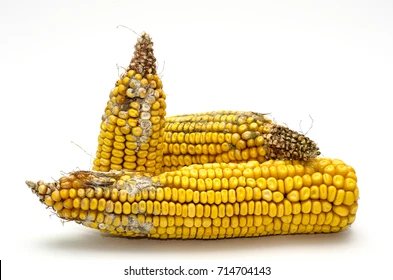rotten corn: (22, 164, 373, 238)
